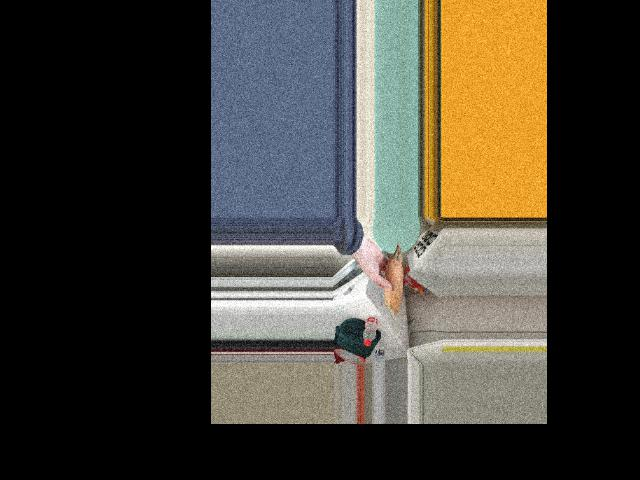sweet_potato: (379, 245, 402, 305)
